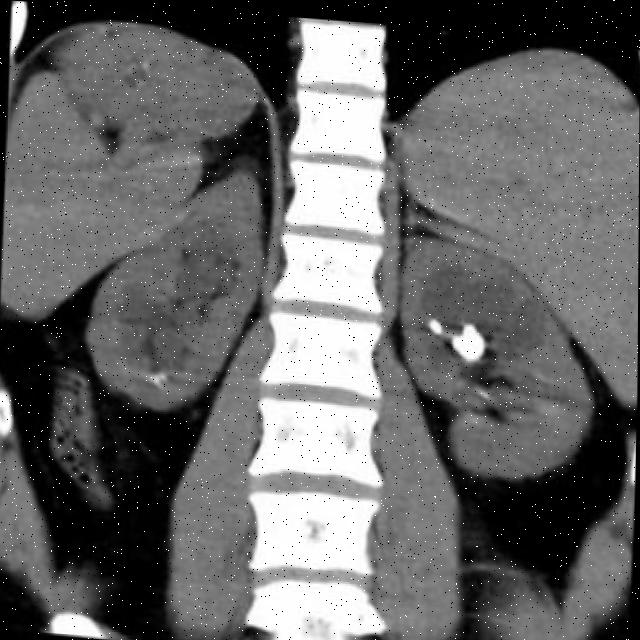Tas_Var: (446, 309, 488, 370), (466, 378, 494, 401), (422, 308, 445, 335), (149, 373, 164, 390), (158, 369, 165, 379)
